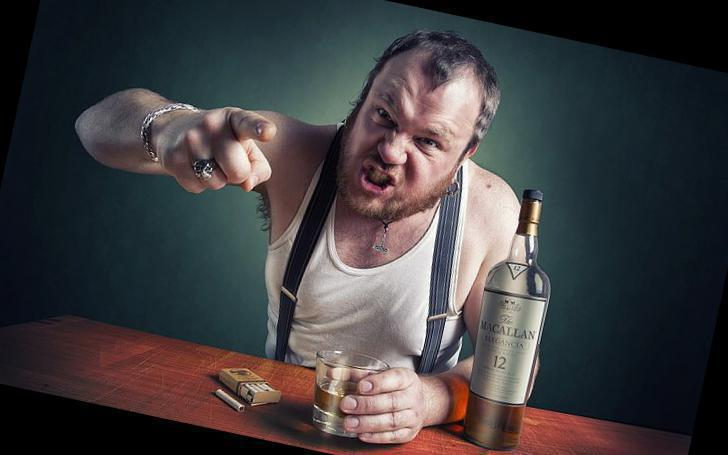Drunk: (352, 69, 459, 217)
